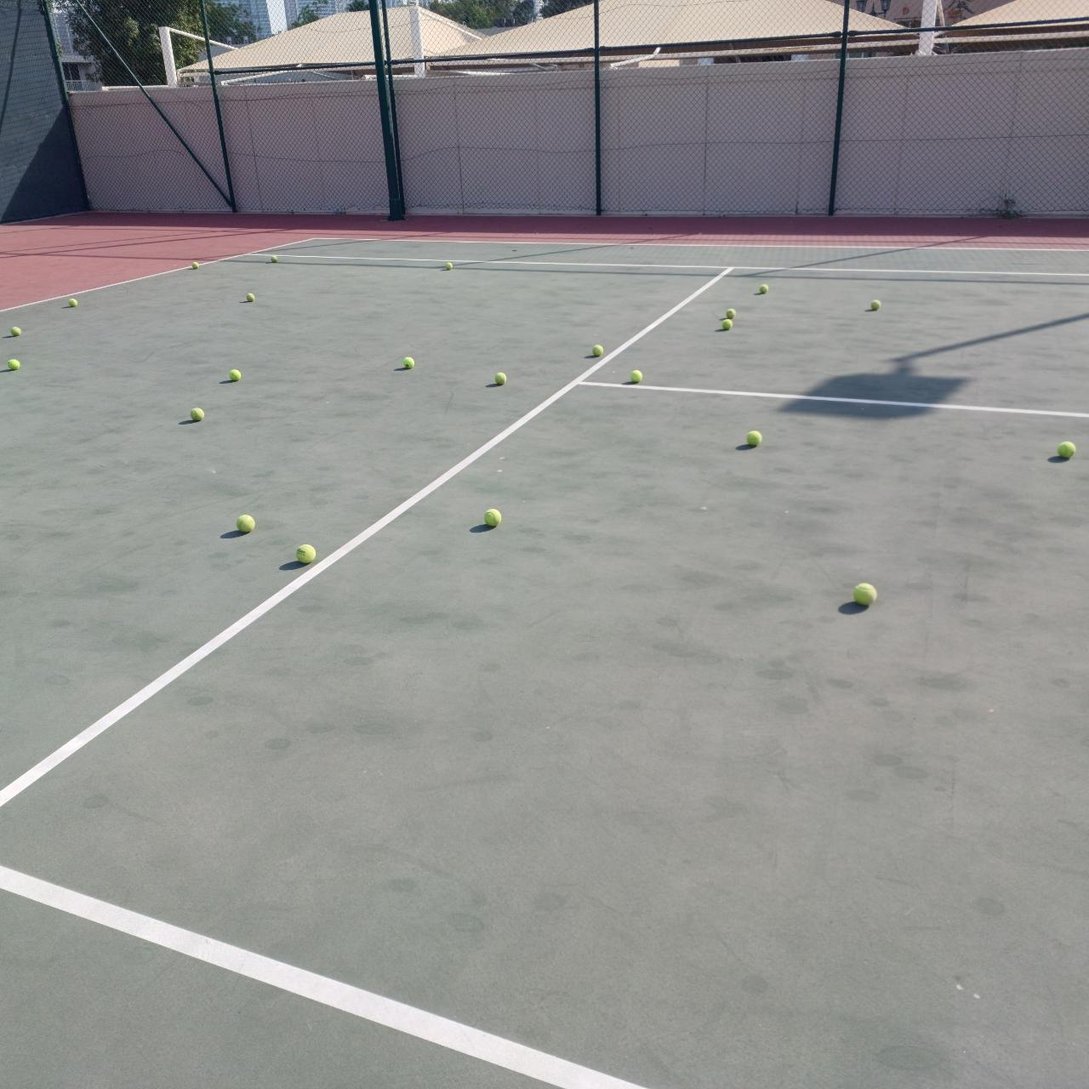tennis-ball: (852, 579, 877, 606), (294, 542, 316, 564), (235, 512, 254, 533), (482, 506, 501, 527), (1056, 439, 1075, 459), (745, 429, 761, 447), (189, 405, 204, 422), (590, 342, 604, 357), (6, 356, 20, 370), (493, 370, 506, 385), (628, 368, 641, 383), (402, 354, 414, 368)
